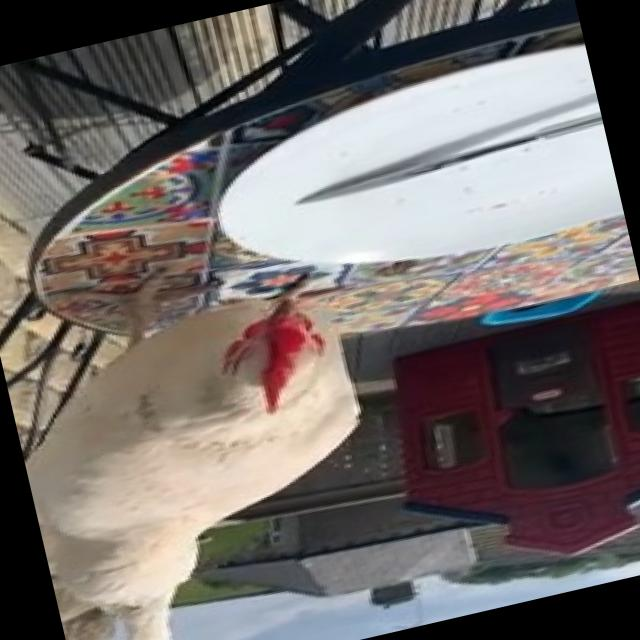pecking: (0, 234, 423, 640)
